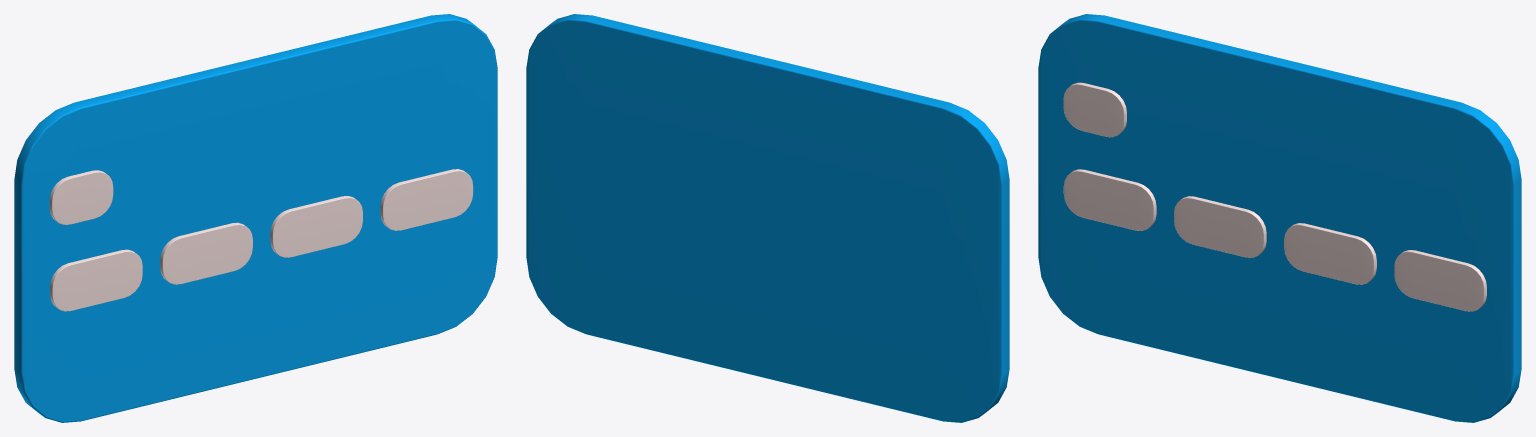
Rendered from Public_10_Bank_Card_3.glb.
The picture shows the model from 3 angles, left to right: view 1: azimuth 30°, elevation 25°; view 2: azimuth 150°, elevation 25°; view 3: azimuth 330°, elevation 25°; orthographic projection.
Parts seen in each view (by area): view 1: Public_10_Bank_Card_3; view 2: Public_10_Bank_Card_3; view 3: Public_10_Bank_Card_3.
Part boxes in pixels (x1=…): Public_10_Bank_Card_3: x1=14, y1=14, x2=497, y2=422; Public_10_Bank_Card_3: x1=526, y1=14, x2=1009, y2=422; Public_10_Bank_Card_3: x1=1038, y1=14, x2=1521, y2=422.
Size of the model in its own units: 2.15 by 1.35 by 0.082.
1 material, 1 textured.
